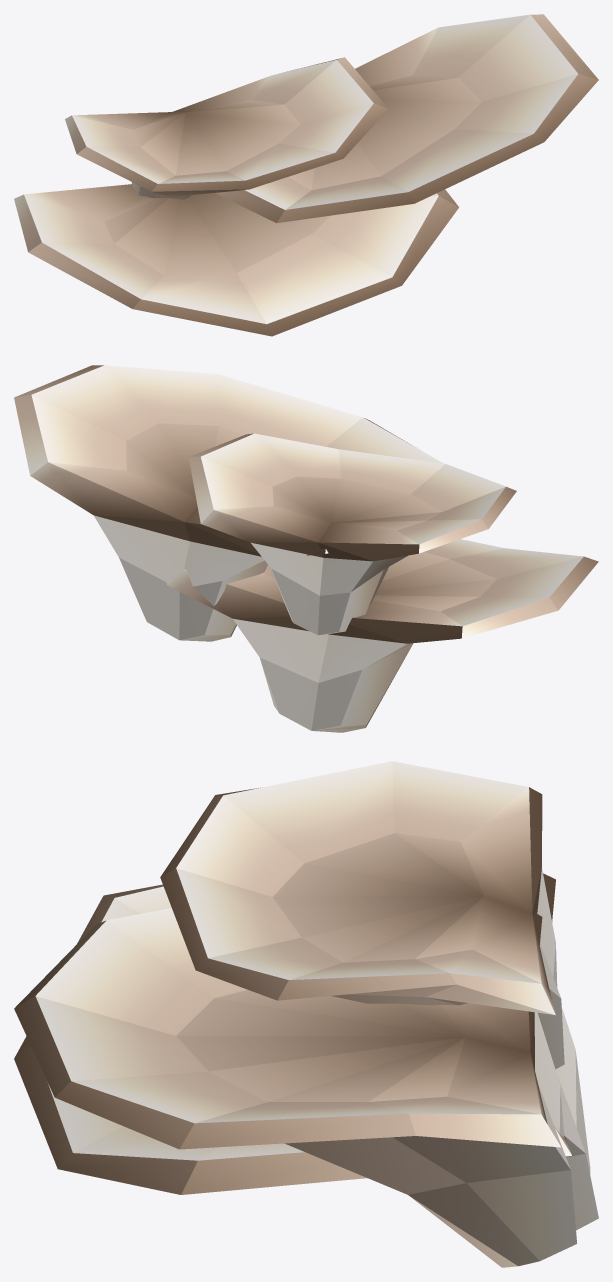
File: Tree_Mushroom-03.fbx
The picture shows the model from 3 angles, top to bottom: view 1: azimuth 30°, elevation 25°; view 2: azimuth 150°, elevation 25°; view 3: azimuth 270°, elevation 25°; orthographic projection. The views are drawn at different scales.
Parts seen in each view (by area): view 1: Tree_Mushroom-03; view 2: Tree_Mushroom-03; view 3: Tree_Mushroom-03.
Part boxes in pixels (x1,y1,x2,y2): Tree_Mushroom-03: (14, 14, 598, 336); Tree_Mushroom-03: (14, 365, 598, 732); Tree_Mushroom-03: (14, 761, 598, 1267).
Bounding box in the file's own units: 110 × 46.2 × 59.35.
1 material, 1 textured.
